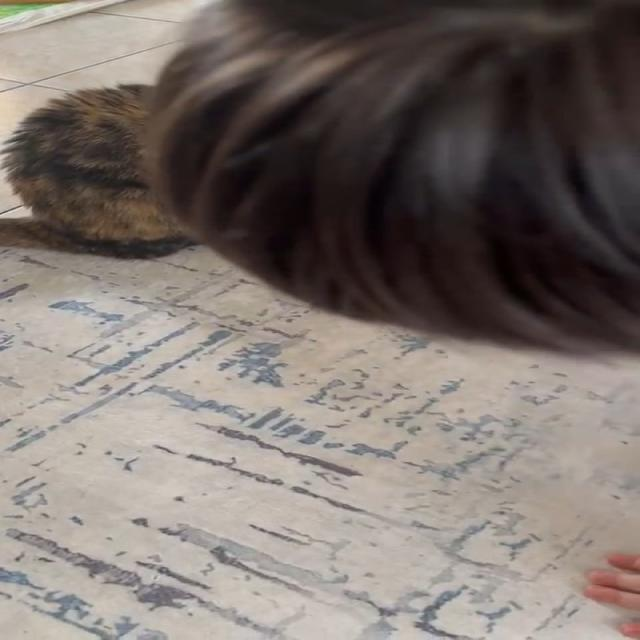authorized: (0, 81, 197, 260)
